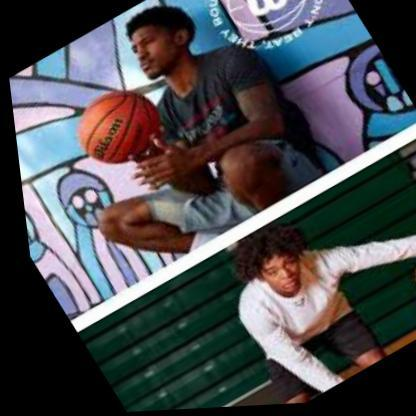basketball: (59, 78, 172, 179), (395, 239, 416, 317)
